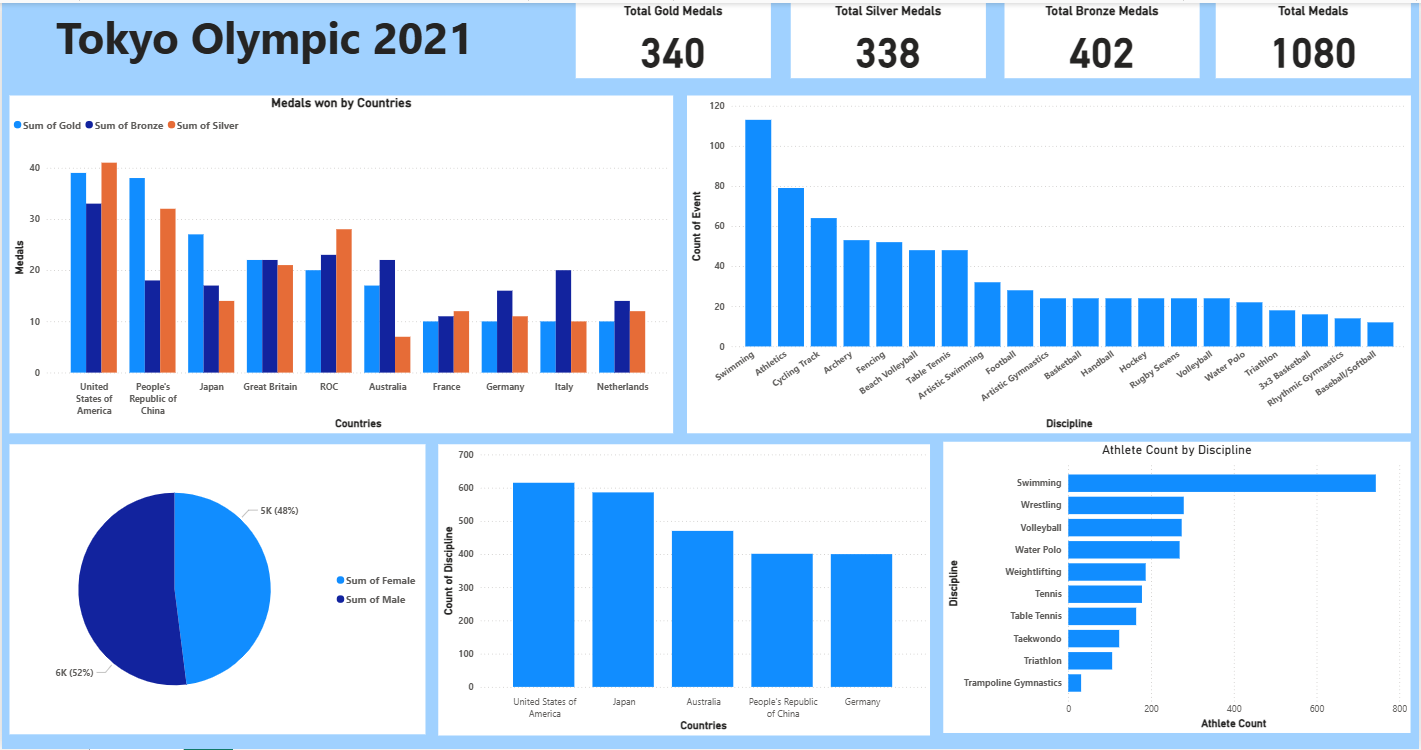

The page's visual inventory and layout, read from the dashboard file:
{"tool":"powerbi","page":{"name":"Page 1","canvas":[1900,1000],"ordinal":0},"visuals":[{"type":"textbox","box":[9.8,0,684,99.7],"z":0},{"type":"card","title":"Total Gold Medals","fields":{"Values":["Sum(medals.Gold)"]},"box":[769.1,0,261.4,100.5],"z":1000},{"type":"card","title":"Total Silver Medals","fields":{"Values":["Sum(medals.Silver)"]},"box":[1057.3,0,261.4,100.5],"z":2000},{"type":"card","title":"Total Bronze Medals","fields":{"Values":["Sum(medals.Bronze)"]},"box":[1343.8,0,261.4,100.5],"z":3000},{"type":"columnChart","fields":{"Category":["athletes.Country"],"Y":["CountNonNull(athletes.Discipline)"]},"box":[585.4,590.7,659.2,390.3],"z":4000},{"type":"pieChart","fields":{"Y":["Sum(entriesgender.Female)","Sum(entriesgender.Male)"]},"box":[10.1,591.5,558,388.7],"z":5000},{"type":"clusteredColumnChart","title":"Medals won by Countries","fields":{"Category":["medals.TeamCountry"],"Y":["Sum(medals.Gold)","Sum(medals.Bronze)","Sum(medals.Silver)"]},"box":[10.1,124,889.7,452.4],"z":6000},{"type":"card","title":"Total Medals","fields":{"Values":["Sum(medals.Total)"]},"box":[1627,0,261.4,100.5],"z":7000},{"type":"columnChart","fields":{"Category":["teams.Discipline"],"Y":["CountNonNull(teams.Event)"]},"box":[918.2,124,970.2,452.4],"z":8000},{"type":"barChart","fields":{"Category":["athletes.Discipline"],"Y":["athletes.Athlete Count"]},"box":[1261.7,588.1,626.7,390.4],"z":9000}]}

Visuals, with their boxes in screenshot pixels (x1, y1, x2, y2), scaled from the page's 1900x1000 canvas onto the 1421x750 screenshot:
textbox: <region>7, 0, 519, 75</region>
"Total Gold Medals" card: <region>575, 0, 771, 75</region>
"Total Silver Medals" card: <region>791, 0, 986, 75</region>
"Total Bronze Medals" card: <region>1005, 0, 1201, 75</region>
columnChart - athletes.Country x CountNonNull(athletes.Discipline): <region>438, 443, 931, 736</region>
pieChart - Sum(entriesgender.Female) x Sum(entriesgender.Male): <region>8, 444, 425, 735</region>
"Medals won by Countries" clusteredColumnChart: <region>8, 93, 673, 432</region>
"Total Medals" card: <region>1217, 0, 1412, 75</region>
columnChart - teams.Discipline x CountNonNull(teams.Event): <region>687, 93, 1412, 432</region>
barChart - athletes.Discipline x athletes.Athlete Count: <region>944, 441, 1412, 734</region>
